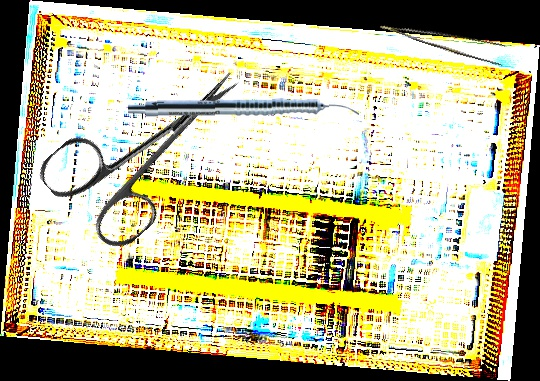Handpiece: (127, 95, 360, 123)
Iris Scissors: (33, 30, 272, 261)
Tissue Forceps: (379, 5, 513, 71)
